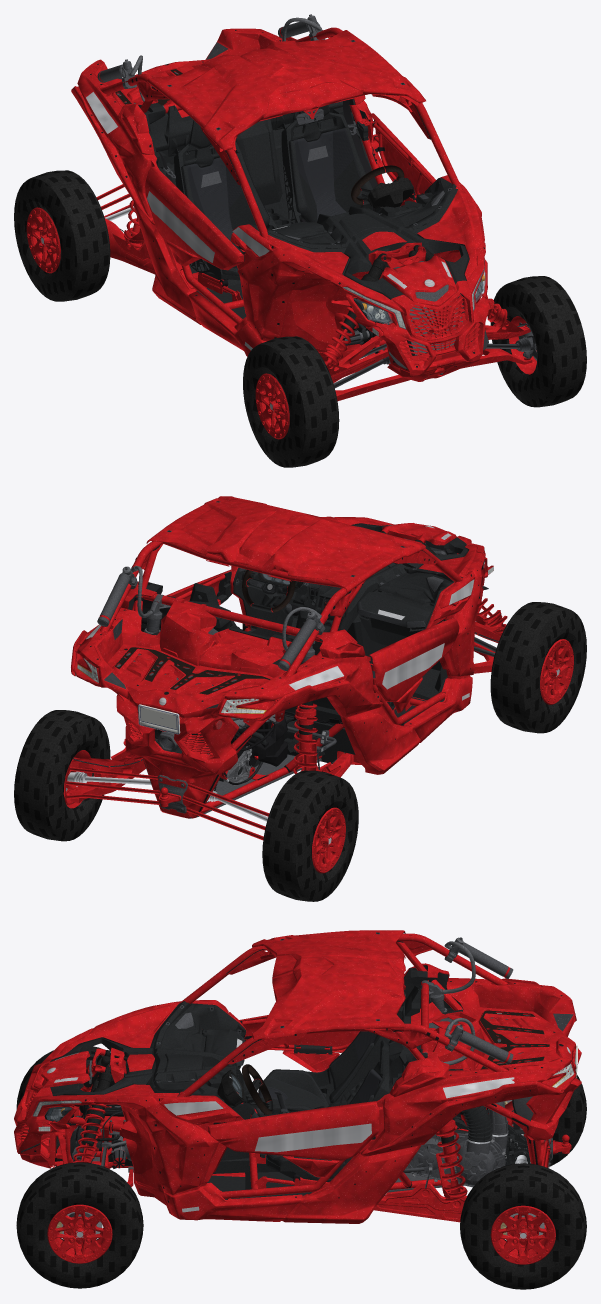
Rendered from maverick.glb.
3 renders of one model, top to bottom at view 1: azimuth 30°, elevation 25°; view 2: azimuth 150°, elevation 25°; view 3: azimuth 270°, elevation 25°, orthographic. The views are drawn at different scales.
Parts seen in each view (by area): view 1: Body Paint_5, spareTireTread_87, plastic_CH1_custom_a_63, fabric_006|seatl_a_22, backfacinggeo_4, BRP_001_6, metal_CH1_Custom_a_010101FF_39, rubberCH1Normal_020202FF_79, metal_cast_a_38, GLM_2CH2_Ch1LERPMask_25, exterior_Leather_CH1_Custom_21, paint_embossed_alpha_b|doorcardrf_a_56 (+1 smaller); view 2: Body Paint_5, spareTireTread_87, plastic_CH1_custom_a_63, backfacinggeo_4, paint_embossed_alpha_b|doorcardrf_a_56, BRP_001_6, exterior_Leather_CH1_Custom_21, metal_cast_a_38, Carbon_Fiber_12, metal_CH1_Custom_a_010101FF_39, US_Plate_base_89, chrome_16 (+2 smaller); view 3: Body Paint_5, spareTireTread_87, plastic_CH1_custom_a_63, backfacinggeo_4, BRP_001_6, rubberCH1Normal_020202FF_79, exterior_Leather_CH1_Custom_21, fabric_006|seatl_a_22, metal_cast_a_38, paint_embossed_alpha_b|doorcardrf_a_56, metal_CH1_Custom_a_010101FF_39, GLM_2CH2_Ch1LERPMask_25 (+1 smaller).
Boxes of the visible parts, x1,y1,x2,y2 form: Body Paint_5: (26,27,536,439); spareTireTread_87: (14,170,586,467); plastic_CH1_custom_a_63: (118,94,469,344); fabric_006|seatl_a_22: (182,127,381,274); backfacinggeo_4: (97,16,462,373); BRP_001_6: (41,92,451,410); metal_CH1_Custom_a_010101FF_39: (122,32,537,388); rubberCH1Normal_020202FF_79: (341,177,476,332); metal_cast_a_38: (123,14,484,339); GLM_2CH2_Ch1LERPMask_25: (343,257,486,335); exterior_Leather_CH1_Custom_21: (115,65,404,205); paint_embossed_alpha_b|doorcardrf_a_56: (81,30,484,374); Body Paint_5: (63,496,573,873); spareTireTread_87: (14,602,586,901); plastic_CH1_custom_a_63: (75,523,469,791); backfacinggeo_4: (97,538,446,818); paint_embossed_alpha_b|doorcardrf_a_56: (79,501,484,784); BRP_001_6: (86,524,559,844); exterior_Leather_CH1_Custom_21: (115,569,295,694); metal_cast_a_38: (95,565,321,786); Carbon_Fiber_12: (73,580,498,767); metal_CH1_Custom_a_010101FF_39: (133,501,496,769); US_Plate_base_89: (138,704,180,734); chrome_16: (67,771,268,821); Body Paint_5: (14,930,581,1264); spareTireTread_87: (16,1046,586,1289); plastic_CH1_custom_a_63: (41,932,531,1199); backfacinggeo_4: (27,939,552,1192); BRP_001_6: (47,1038,570,1238); rubberCH1Normal_020202FF_79: (46,1009,552,1164); exterior_Leather_CH1_Custom_21: (242,1010,549,1114); fabric_006|seatl_a_22: (258,1031,381,1166); metal_cast_a_38: (32,937,573,1152); paint_embossed_alpha_b|doorcardrf_a_56: (34,932,563,1202); metal_CH1_Custom_a_010101FF_39: (69,932,456,1217); GLM_2CH2_Ch1LERPMask_25: (33,1064,573,1130).
Size of the model in its own units: 2.09 by 1.85 by 3.68.
29 materials, 29 textured.
